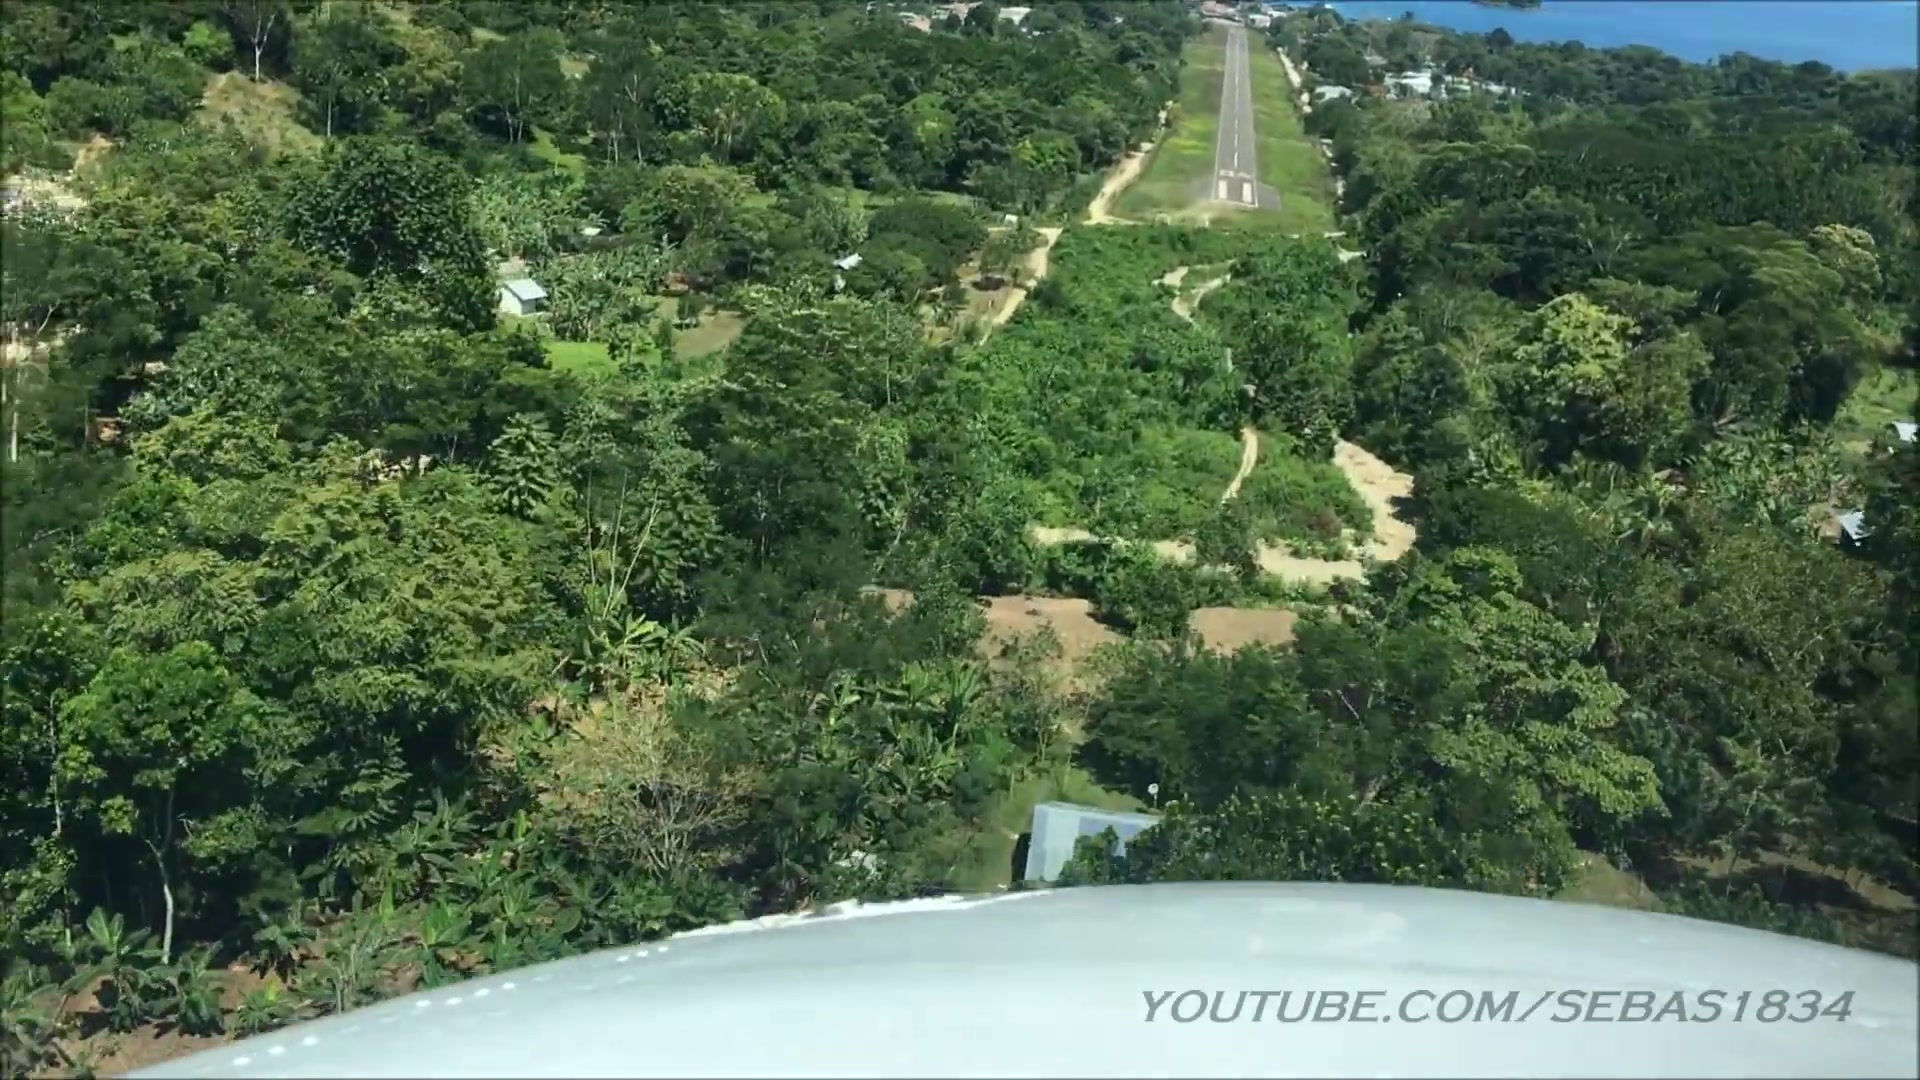entrance: (1216, 179, 1253, 204)
runway: (1209, 28, 1263, 208)
